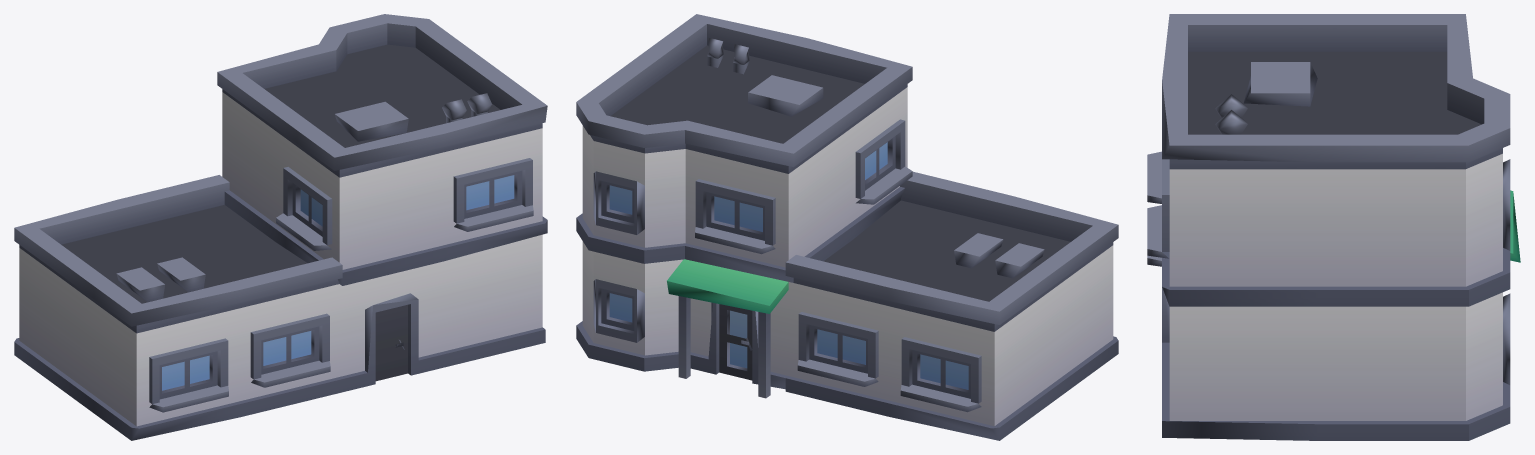
The model's file is 079_city-kit-commercial_building-e_card.glb.
The picture shows the model from 3 angles, left to right: view 1: azimuth 30°, elevation 25°; view 2: azimuth 150°, elevation 25°; view 3: azimuth 270°, elevation 25°; orthographic projection. The views are drawn at different scales.
Visible parts, largest first — view 1: building-e; view 2: building-e; view 3: building-e.
Boxes of the visible parts, x1,y1,x2,y2 form: building-e: (14,14,547,440); building-e: (576,14,1118,440); building-e: (1147,14,1520,440).
Size of the model in its own units: 1.64 by 0.893 by 1.01.
Materials: 1 (1 with a texture image).
